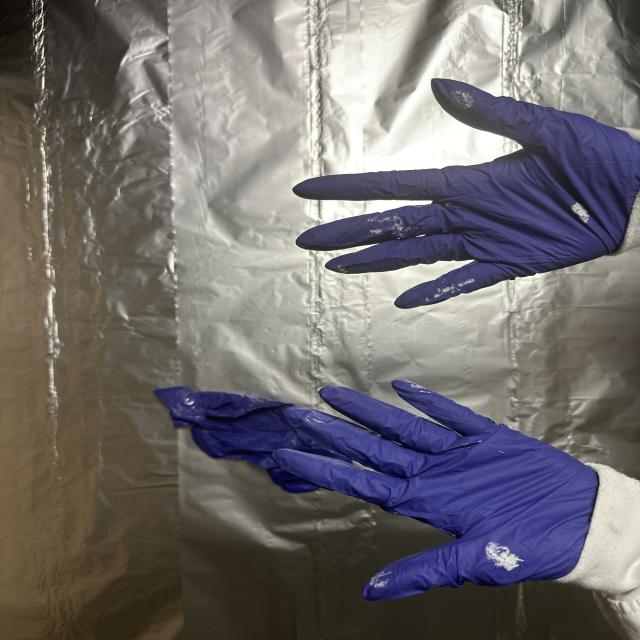gloves_contaminated: (294, 79, 640, 308), (274, 380, 599, 600)
